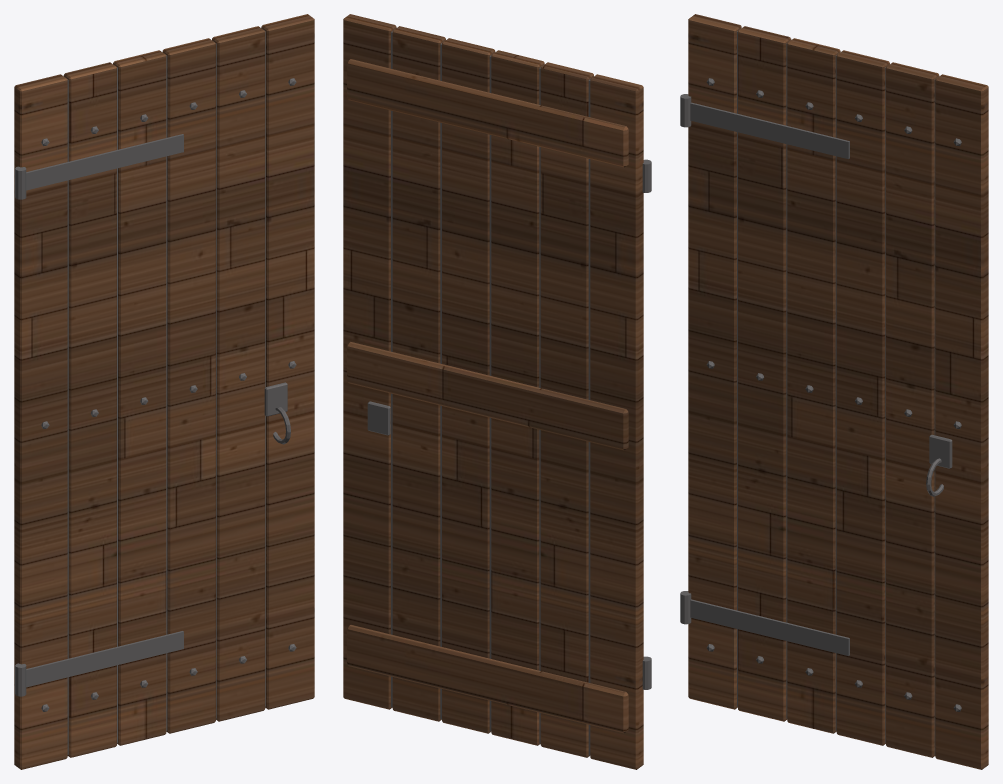
The model's file is door_leaf_main.glb.
3 views of the same model, side by side, from view 1: azimuth 30°, elevation 25°; view 2: azimuth 150°, elevation 25°; view 3: azimuth 330°, elevation 25° (orthographic).
Visible parts, largest first — view 1: door_leaf_main_wood, door_leaf_main_iron, door_leaf_main_dark; view 2: door_leaf_main_wood, door_leaf_main_dark, door_leaf_main_iron; view 3: door_leaf_main_wood, door_leaf_main_iron, door_leaf_main_dark.
Boxes of the visible parts, box(x1,y1,x2,y2) form: door_leaf_main_wood: box(14, 14, 314, 769); door_leaf_main_iron: box(15, 78, 296, 711); door_leaf_main_dark: box(67, 30, 265, 754); door_leaf_main_wood: box(343, 14, 643, 769); door_leaf_main_dark: box(391, 30, 590, 755); door_leaf_main_iron: box(367, 159, 651, 689); door_leaf_main_wood: box(688, 14, 988, 769); door_leaf_main_iron: box(680, 78, 961, 711); door_leaf_main_dark: box(737, 31, 935, 754).
Size of the model in its own units: 1.1 by 2.37 by 0.168.
3 materials, 1 textured.
